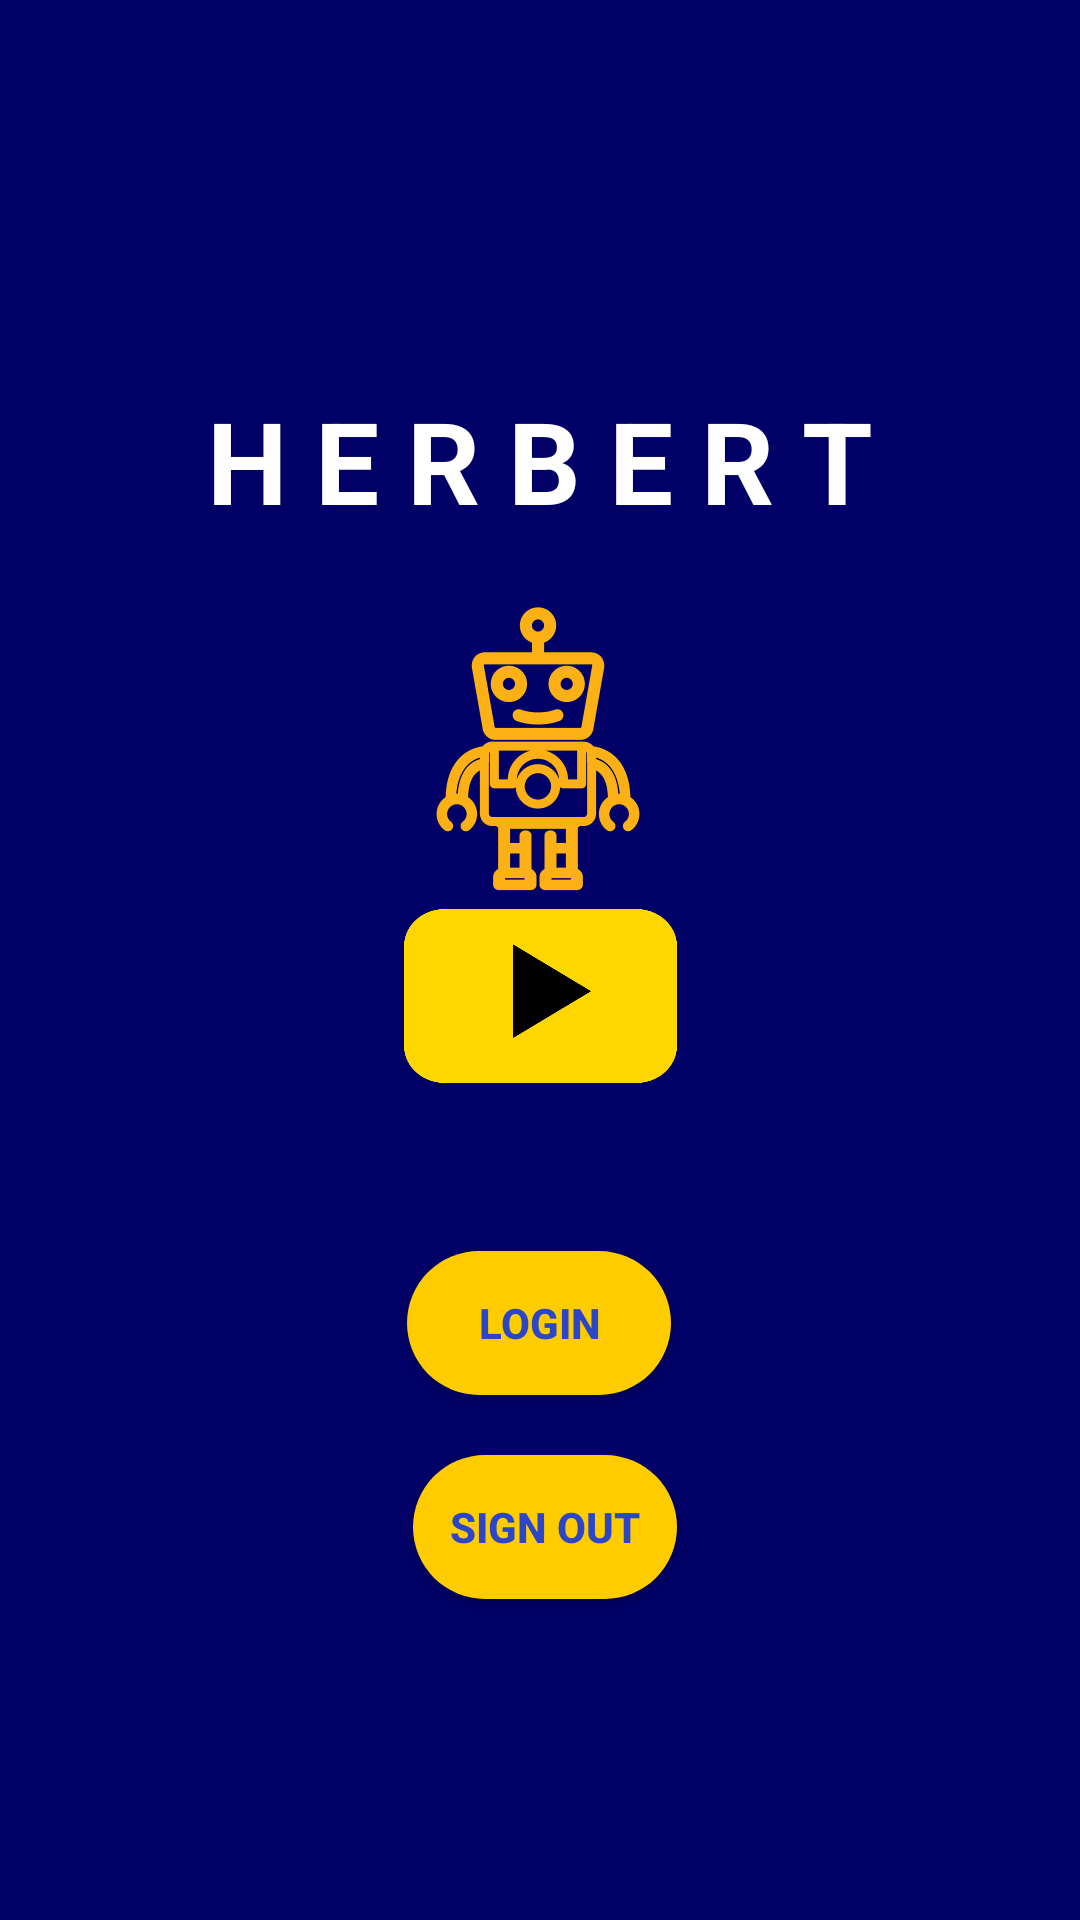

Icon bounding boxes for this 1080x1920 phone screenshot, format box=[x1, y1, x2, y2]:
playbutton: box=[404, 909, 677, 1083]
robot: box=[436, 607, 640, 891]
